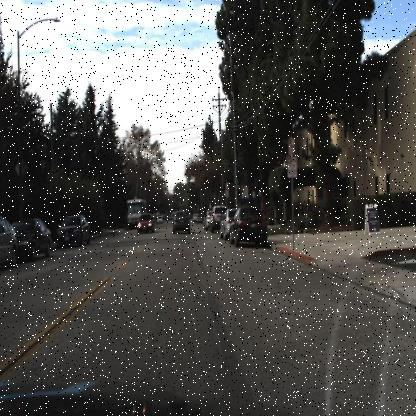car: (228, 201, 269, 250), (14, 214, 52, 263), (16, 218, 52, 258), (55, 212, 92, 249), (0, 212, 19, 272), (168, 203, 194, 237), (211, 200, 230, 236), (218, 204, 236, 242), (136, 220, 156, 238), (203, 204, 215, 232)
truck: (123, 192, 149, 233)
